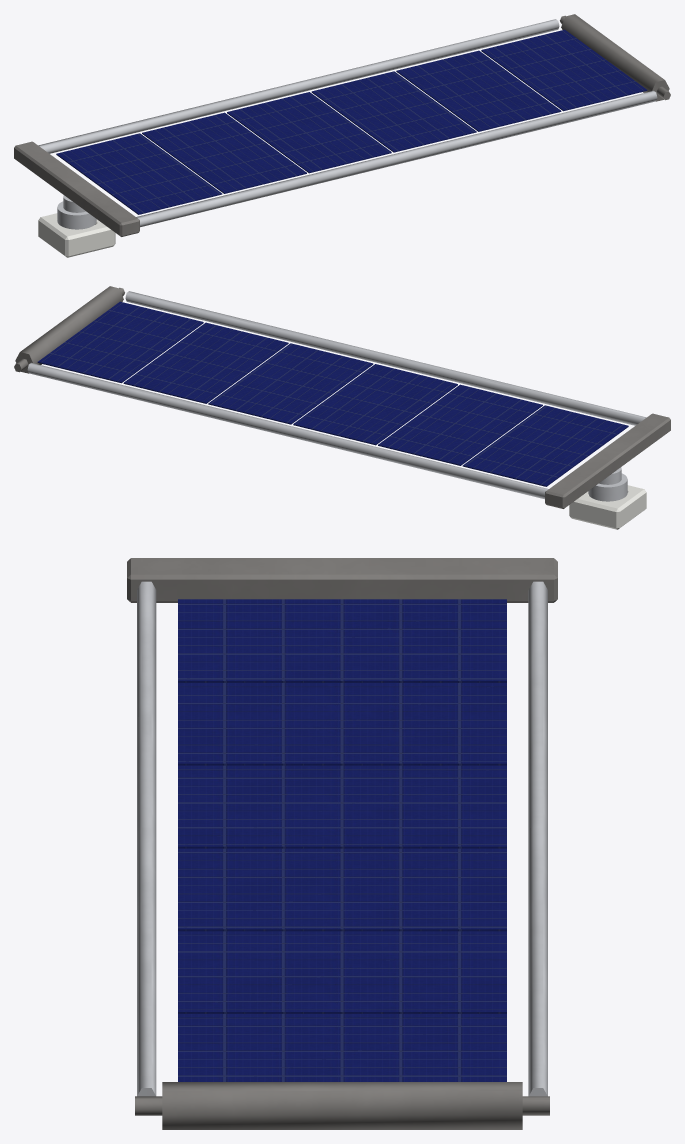
The model's file is ax_power_01_roll_out_array_s_deployed.glb.
3 views of the same model, one above another, from view 1: azimuth 30°, elevation 25°; view 2: azimuth 150°, elevation 25°; view 3: azimuth 270°, elevation 25° (orthographic). The views are drawn at different scales.
Visible parts, largest first — view 1: panel_blanket, boom_1, boom_2, yoke, panel_roll, mount_block, gimbal; view 2: panel_blanket, boom_2, boom_1, yoke, panel_roll, mount_block, gimbal; view 3: panel_blanket, panel_roll, yoke, boom_2, boom_1.
Boxes of the visible parts, left/top/right/bottom form: panel_blanket: left=56, top=29, right=647, bottom=214; boom_1: left=136, top=90, right=657, bottom=227; boom_2: left=38, top=19, right=559, bottom=153; yoke: left=14, top=141, right=139, bottom=236; panel_roll: left=560, top=14, right=670, bottom=101; mount_block: left=38, top=213, right=115, bottom=257; gimbal: left=57, top=195, right=96, bottom=229; panel_blanket: left=37, top=301, right=628, bottom=486; boom_2: left=27, top=362, right=548, bottom=499; boom_1: left=125, top=291, right=646, bottom=425; yoke: left=545, top=413, right=670, bottom=508; panel_roll: left=14, top=286, right=124, bottom=373; mount_block: left=569, top=485, right=646, bottom=529; gimbal: left=588, top=467, right=627, bottom=501; panel_blanket: left=178, top=599, right=506, bottom=1081; panel_roll: left=135, top=1082, right=549, bottom=1129; yoke: left=127, top=558, right=557, bottom=602; boom_2: left=528, top=581, right=547, bottom=1096; boom_1: left=137, top=581, right=156, bottom=1096.
Size of the model in its own units: 3.38 by 0.355 by 1.1.
4 materials, 3 textured.
